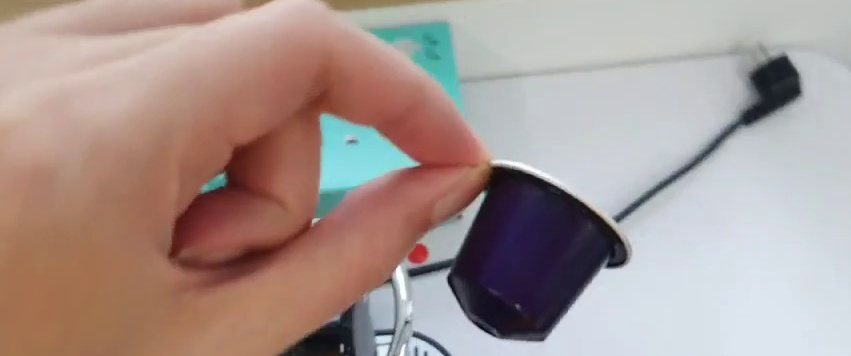capsule_2: (450, 157, 636, 343)
